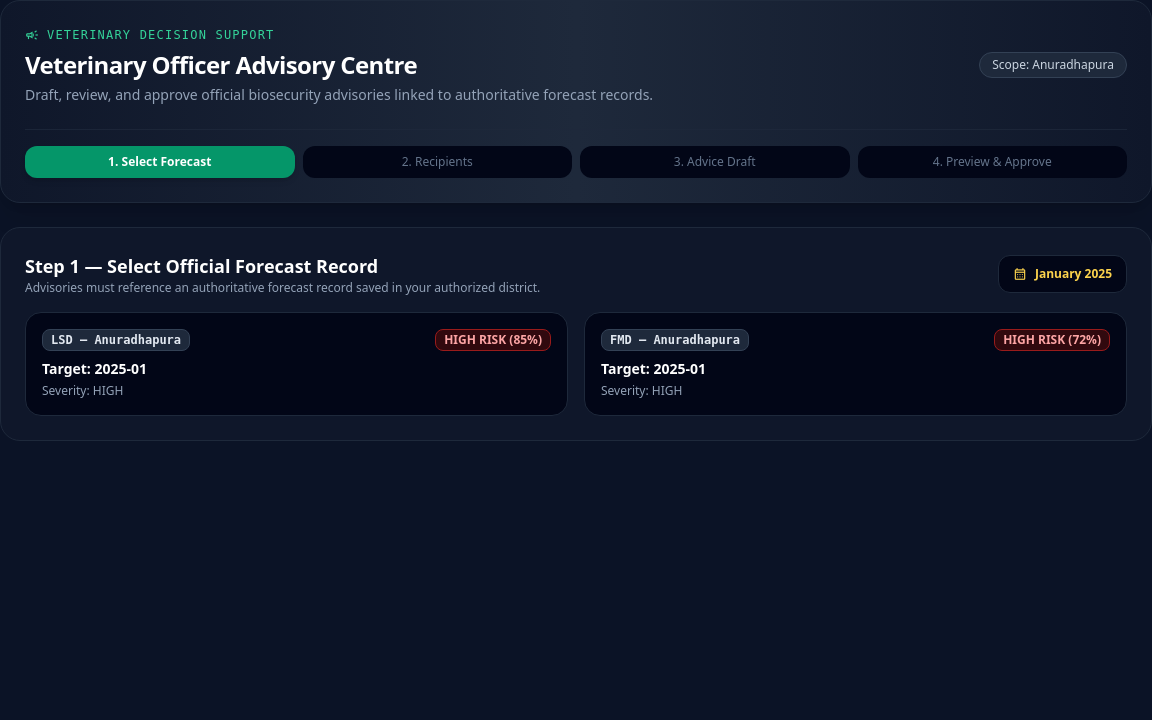
it: VeterinaryAdvisoryCentre Component › Step 3 — Prepare Advice & Payload Integrity › creates advisory draft via createAdvisoryDraft API method with exact allowed fields
Click the text "LSD — Anuradhapura": [116, 340] box [42,329,190,351]
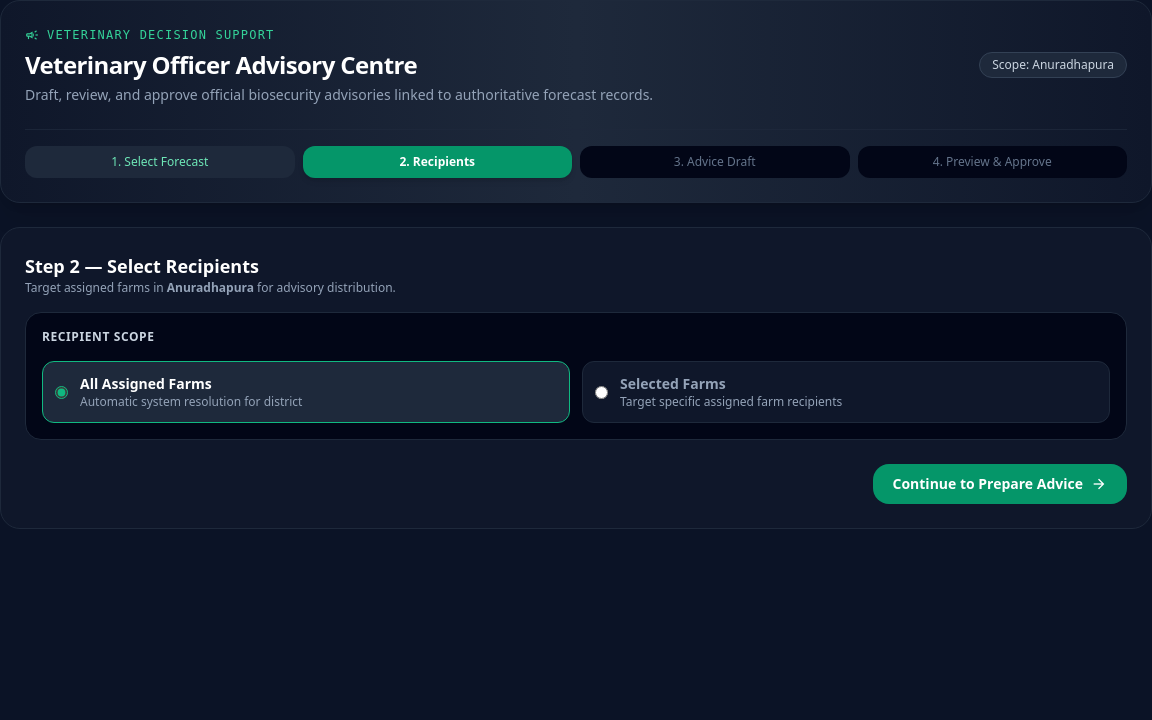
Click the button "Continue to Prepare Advice": [1000, 484] box [872,464,1127,504]
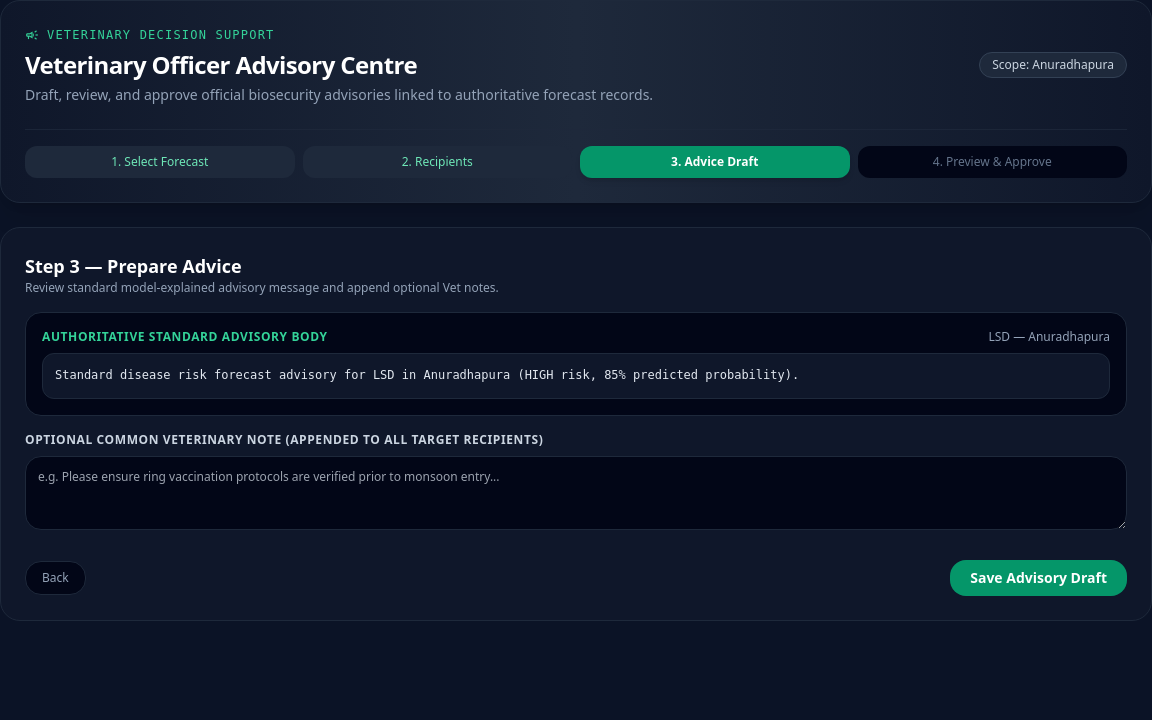
Replace the text in the text box with placeholder "ring vaccination" with "Ensure vaccination ring is active.": [576, 492] box [25,456,1127,530]
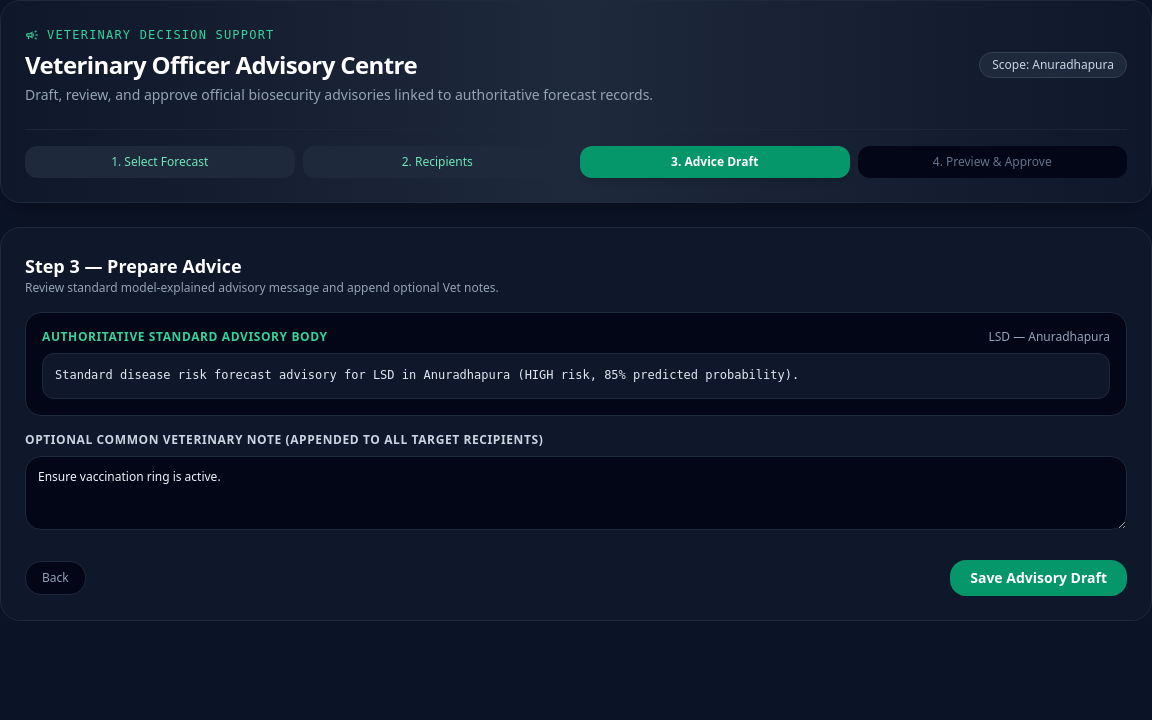
Click the button "Save Advisory Draft": [1039, 578] box [950,560,1127,596]
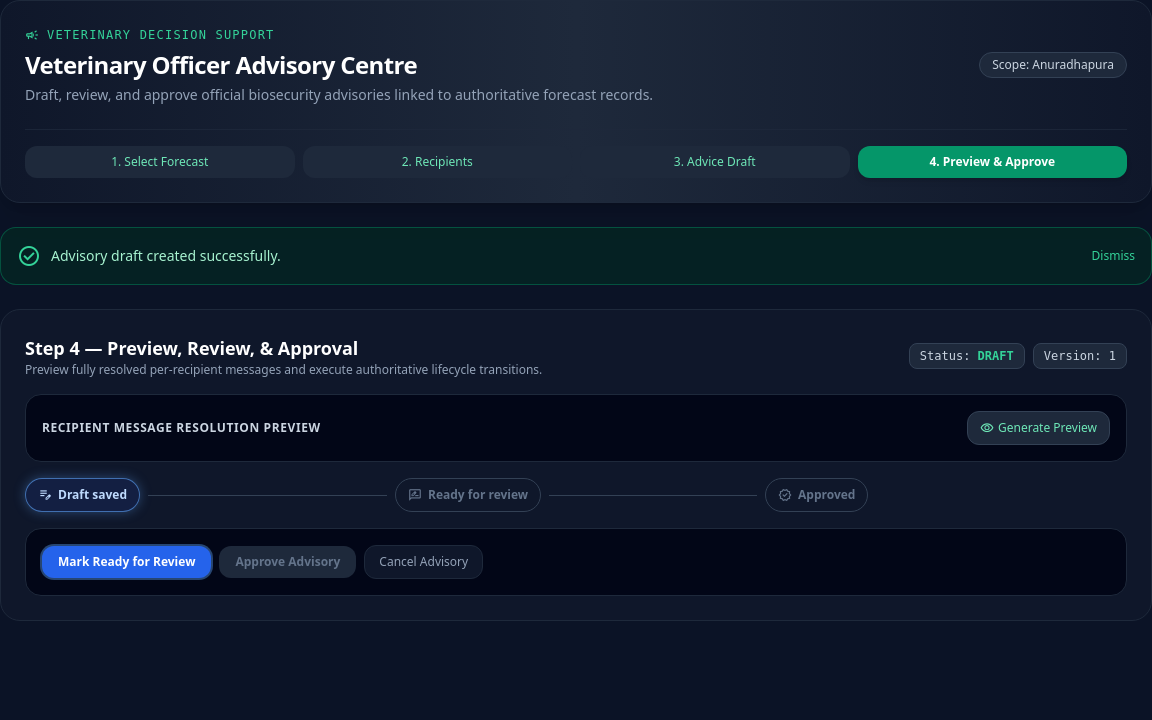
Now the heading "Step 4 — Preview, Review, & Approval" is shown, box [25,336,358,360]
